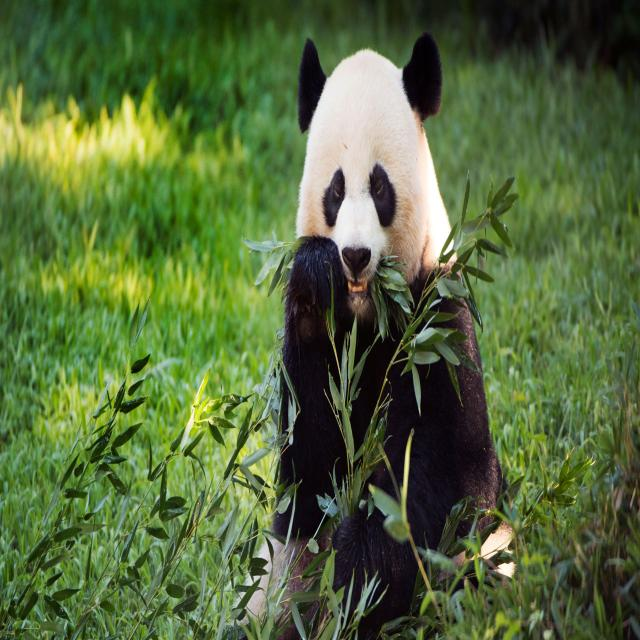panda: (272, 33, 507, 637)
